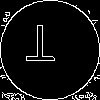T: (25, 25, 55, 70)
